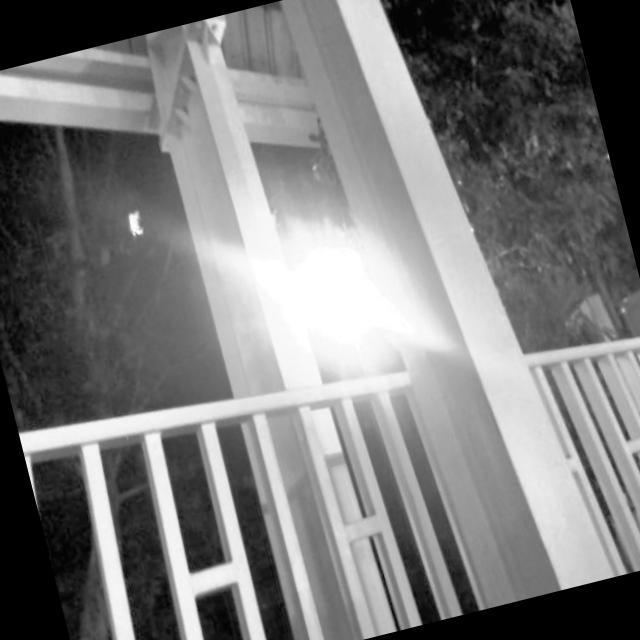Light: (162, 118, 501, 498)
